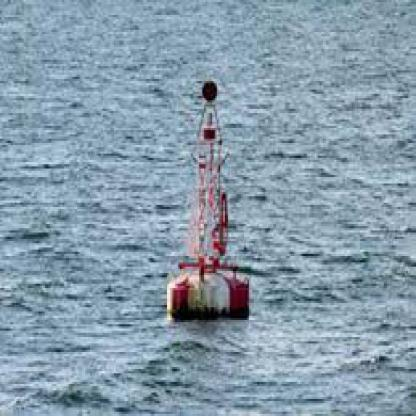buoy: (156, 75, 262, 326)
